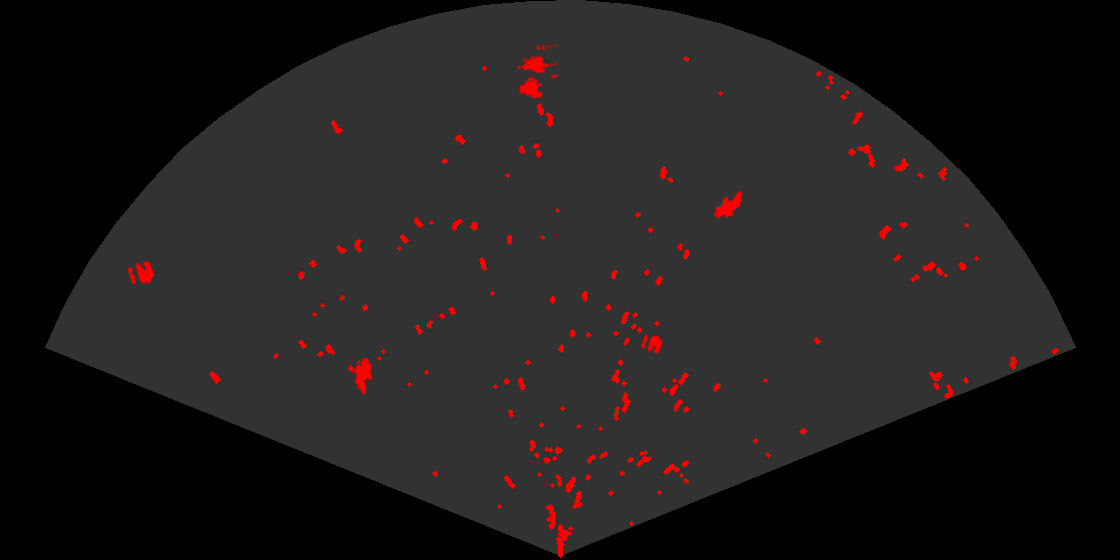AUV: (712, 189, 744, 220), (352, 356, 374, 397)
ball: (126, 259, 156, 286), (639, 333, 665, 355)
cage: (516, 45, 558, 100)
